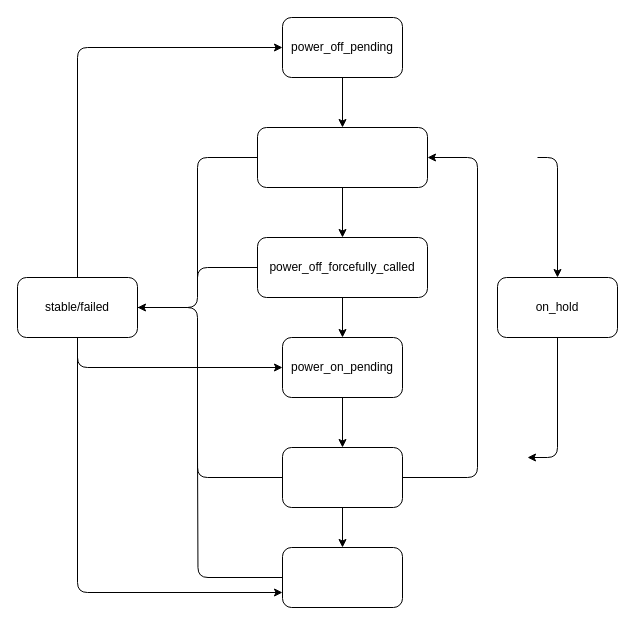
Image size: 635x625. Some labels were removed from this diagram. Here are the shapes that lost their labels. From the top down, the box of each, then its label:
(256, 126, 428, 188): power_off_gracefully_called
(282, 446, 402, 508): power_on_called
(282, 546, 402, 608): configuring
